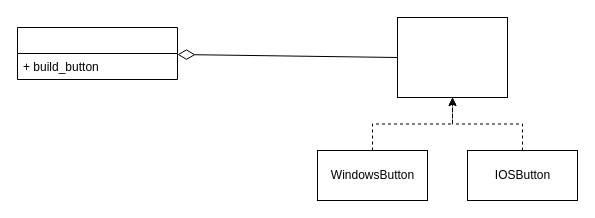
Some shapes in this 595 by 218 pixel diagram are drawn without their labels. The shapes that lost their labels are listed below. From the top down, each one's box as (x1, y1, x2, y2) in pixels, then its label:
(16, 26, 178, 80): ButtonFactory
(396, 16, 508, 98): <<Interface>> Button + render() + onClick()
